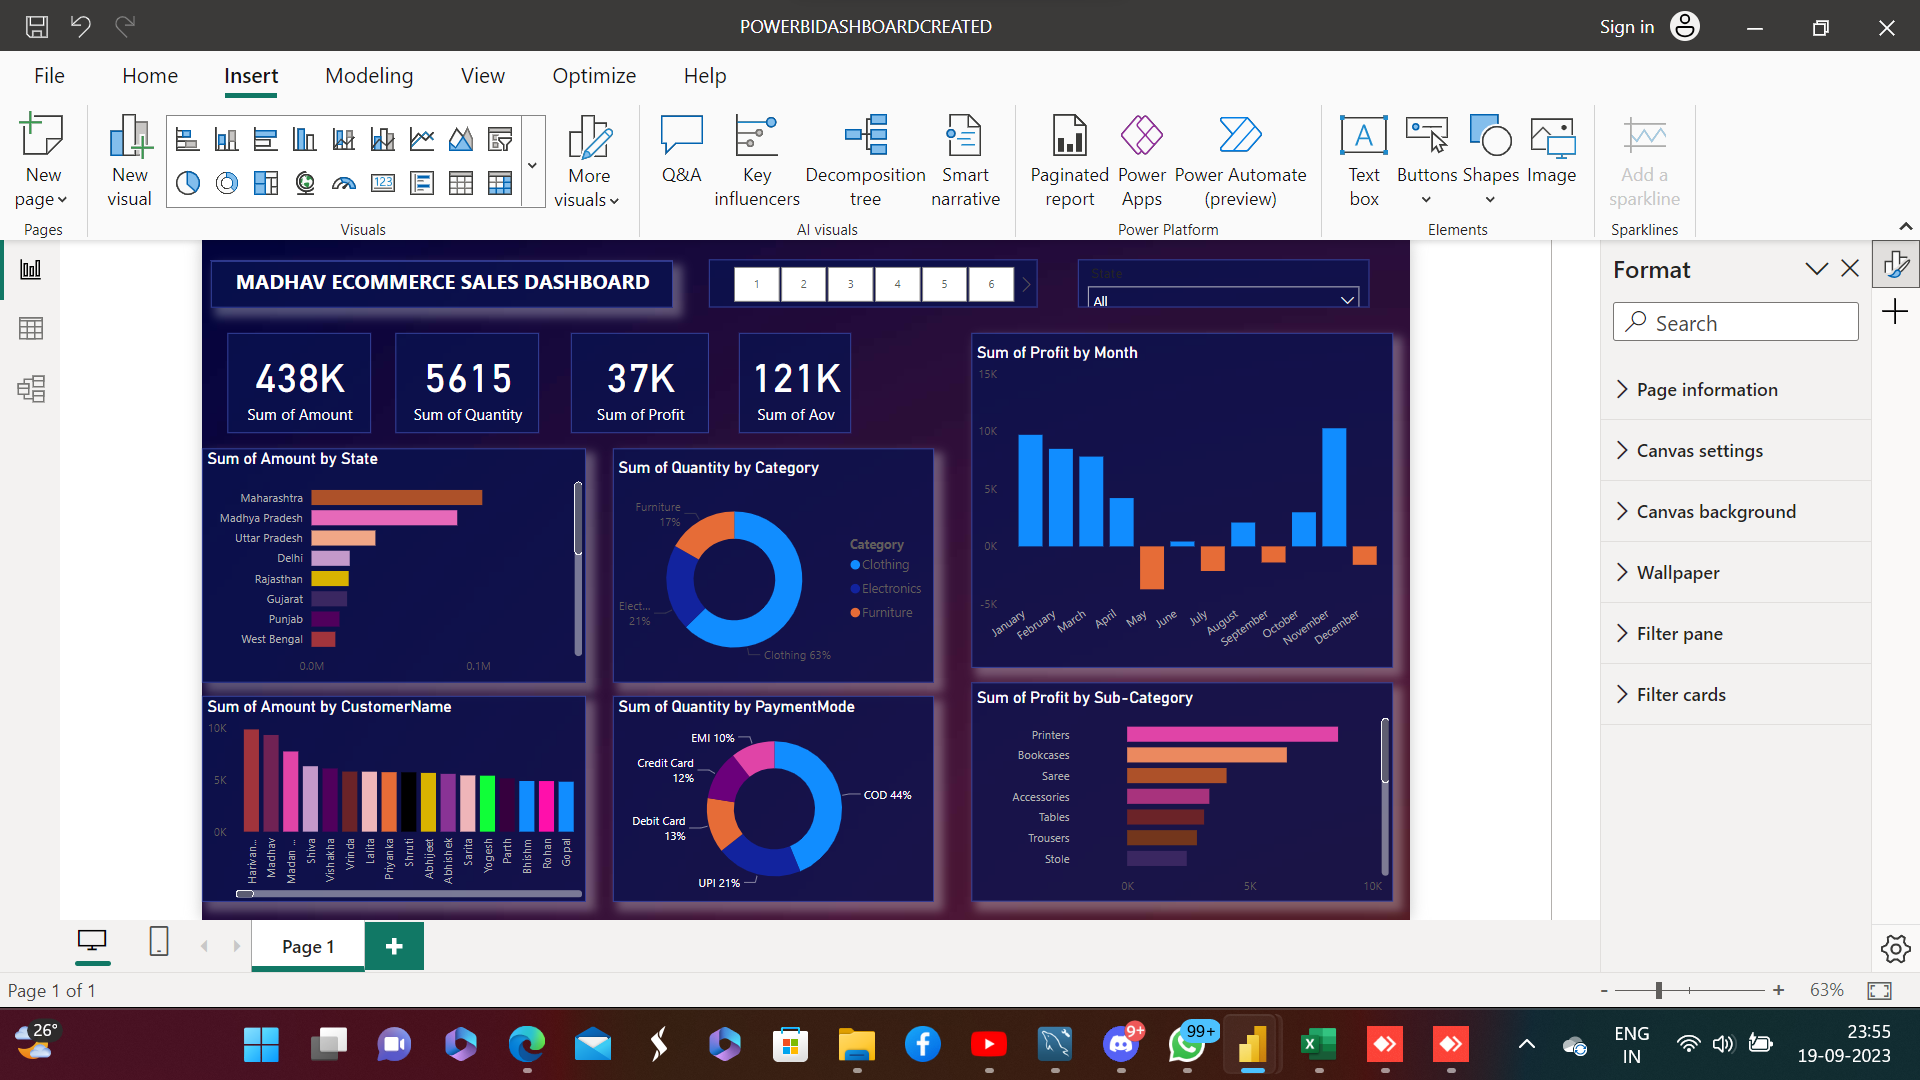

Layout of this report page (visuals, bound fields, positions):
{"tool":"powerbi","page":{"name":"Page 1","canvas":[1280,720],"ordinal":0},"visuals":[{"type":"textbox","box":[9.5,22.3,489.5,49.3],"z":0},{"type":"columnChart","fields":{"Category":["Orders.Order Date.Variation.Date Hierarchy.Month"],"Y":["Details.Profit"]},"box":[815.4,98.5,446.6,354.4],"z":1000},{"type":"clusteredBarChart","fields":{"Category":["Details.Sub-Category"],"Y":["Details.Profit"]},"box":[815.4,468.9,446.6,232.1],"z":2000},{"type":"donutChart","fields":{"Y":["Details.Quantity"],"Category":["Details.Category"]},"box":[435.5,220.9,340.1,247.9],"z":3000},{"type":"donutChart","fields":{"Y":["Details.Quantity"],"Category":["Details.PaymentMode"]},"box":[435.5,483.2,340.1,217.7],"z":4000},{"type":"card","fields":{"Values":["Details.Amount"]},"box":[27.2,98.8,151.7,105.9],"z":5000},{"type":"card","fields":{"Values":["Details.Quantity"]},"box":[204.7,98.8,151.7,105.9],"z":6000},{"type":"card","fields":{"Values":["Details.Profit"]},"box":[390.8,98.8,146,105.9],"z":7000},{"type":"card","fields":{"Values":["Details.Aov"]},"box":[569.7,98.8,118.8,105.9],"z":8000},{"type":"clusteredBarChart","fields":{"Y":["Details.Amount"],"Category":["Orders.State"]},"box":[0,220.9,406.9,247.9],"z":9000},{"type":"columnChart","fields":{"Category":["Orders.CustomerName"],"Y":["Details.Amount"]},"box":[0,483.2,406.9,217.7],"z":10000},{"type":"slicer","fields":{"Values":["Orders.State"]},"box":[928.2,20.7,308.3,50.9],"z":11000},{"type":"slicer","fields":{"Values":["Details.Quantity"]},"box":[537.2,20.7,348.1,50.9],"z":12000}]}

Visuals, with their boxes on the page's 1280x720 design canvas (x1, y1, x2, y2). These are canvas units, not pixel positions in the 1920x1080 screenshot, which may show the page scaled, cropped or inside an application window:
textbox: locate(10, 22, 499, 72)
columnChart - Orders.Order Date.Variation.Date Hierarchy.Month x Details.Profit: locate(815, 98, 1262, 453)
clusteredBarChart - Details.Sub-Category x Details.Profit: locate(815, 469, 1262, 701)
donutChart - Details.Quantity x Details.Category: locate(436, 221, 776, 469)
donutChart - Details.Quantity x Details.PaymentMode: locate(436, 483, 776, 701)
card - Details.Amount: locate(27, 99, 179, 205)
card - Details.Quantity: locate(205, 99, 356, 205)
card - Details.Profit: locate(391, 99, 537, 205)
card - Details.Aov: locate(570, 99, 688, 205)
clusteredBarChart - Details.Amount x Orders.State: locate(0, 221, 407, 469)
columnChart - Orders.CustomerName x Details.Amount: locate(0, 483, 407, 701)
slicer - Orders.State: locate(928, 21, 1236, 72)
slicer - Details.Quantity: locate(537, 21, 885, 72)
